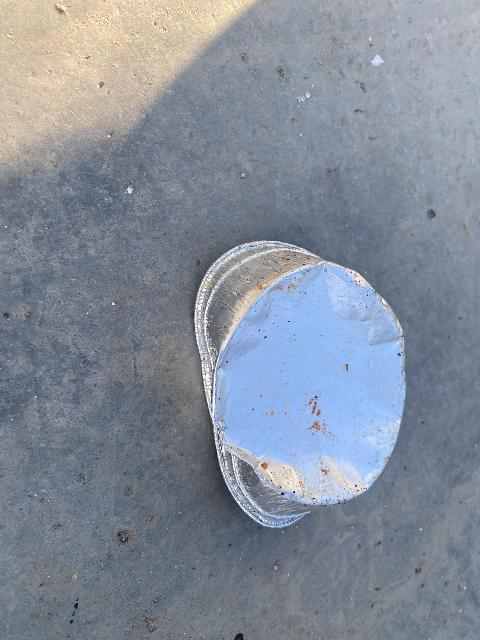Plastik: (178, 241, 416, 527)
